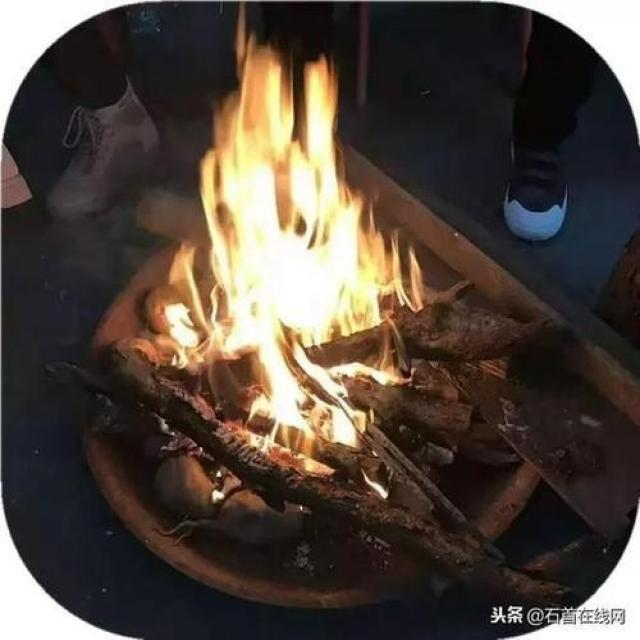Fire: (164, 1, 426, 502)
